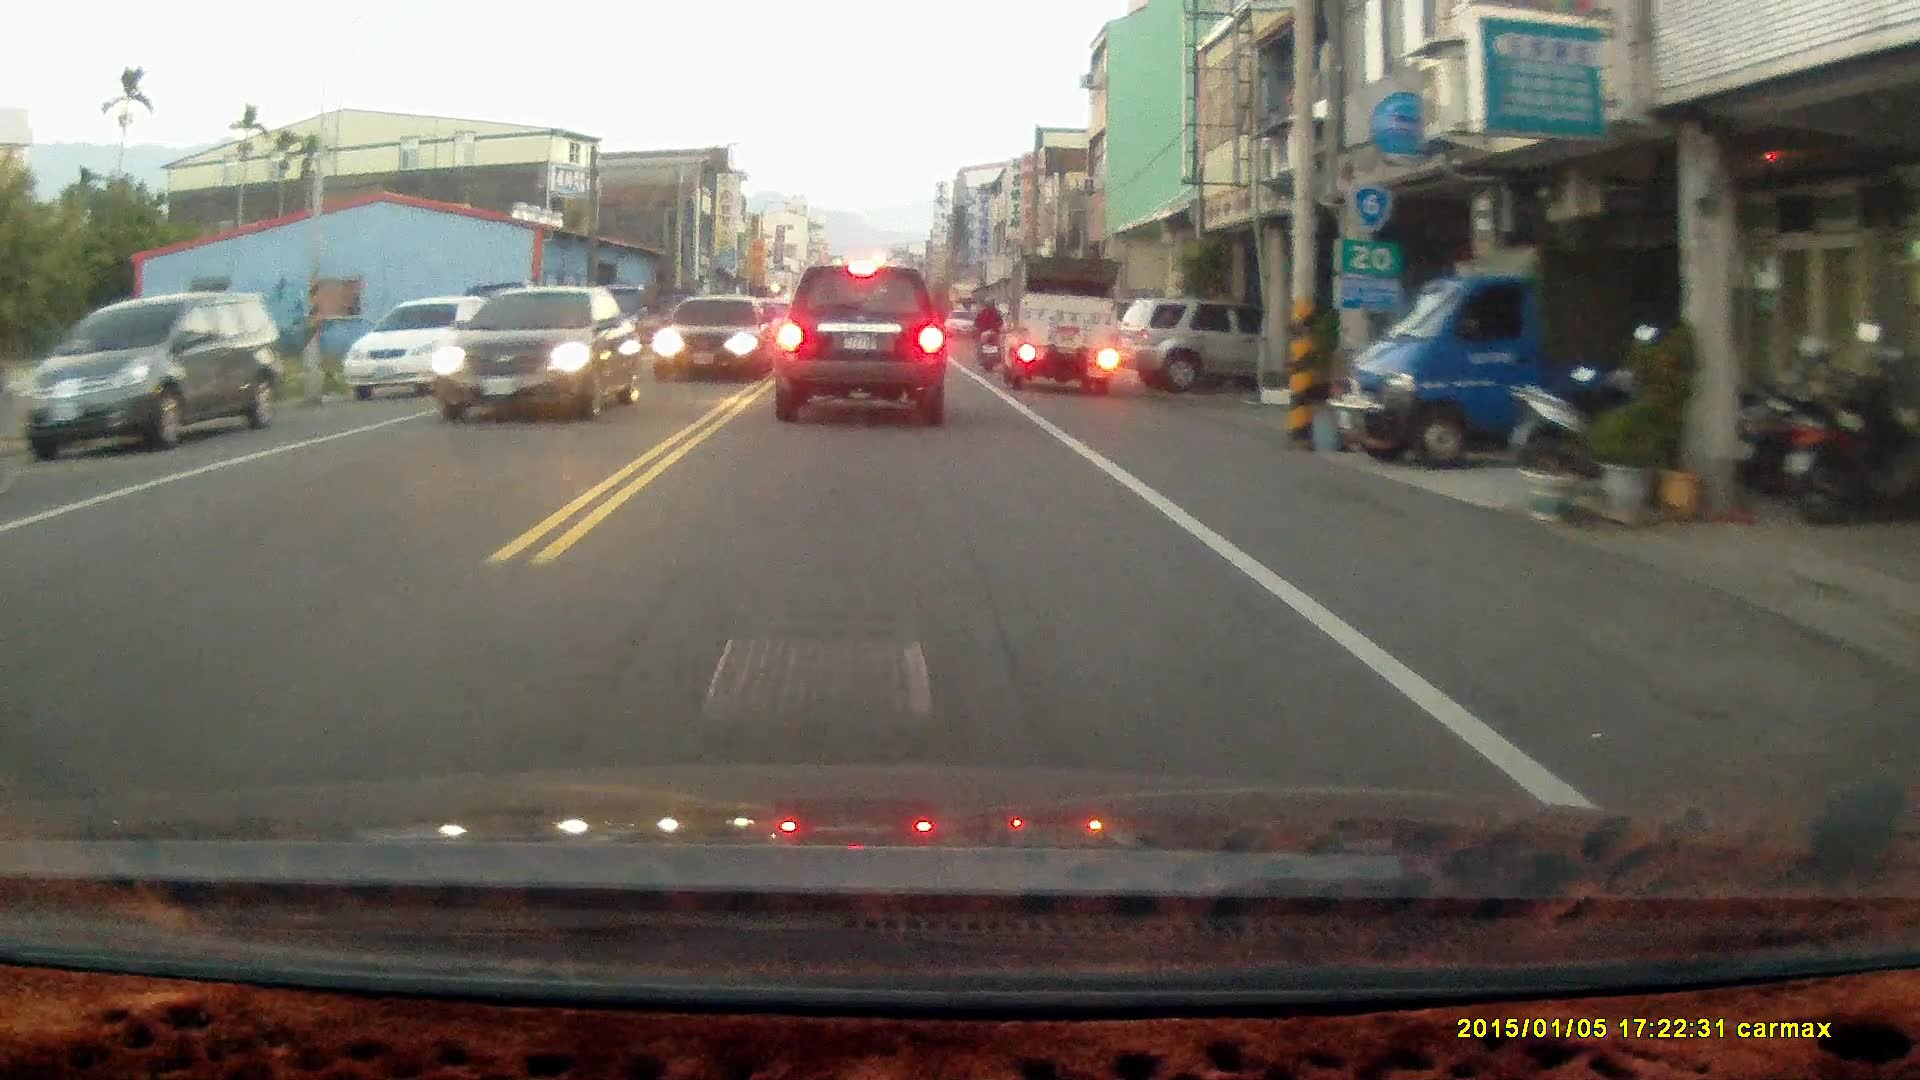rider: (972, 291, 1006, 369)
vehicle: (1348, 203, 1707, 468), (16, 288, 281, 452), (770, 261, 948, 429), (431, 286, 641, 421), (345, 296, 522, 408), (1012, 249, 1120, 388), (1120, 297, 1265, 396), (654, 297, 768, 380)
